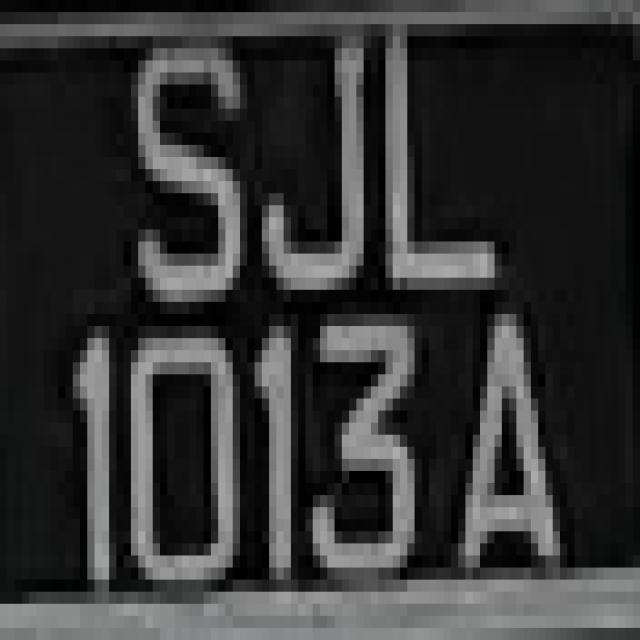0: (116, 278, 240, 580)
1: (58, 290, 131, 616), (248, 302, 306, 604)
3: (291, 253, 429, 568)
A: (436, 278, 589, 592)
J: (248, 12, 386, 302)
L: (364, 12, 487, 314)
S: (102, 36, 262, 302)
